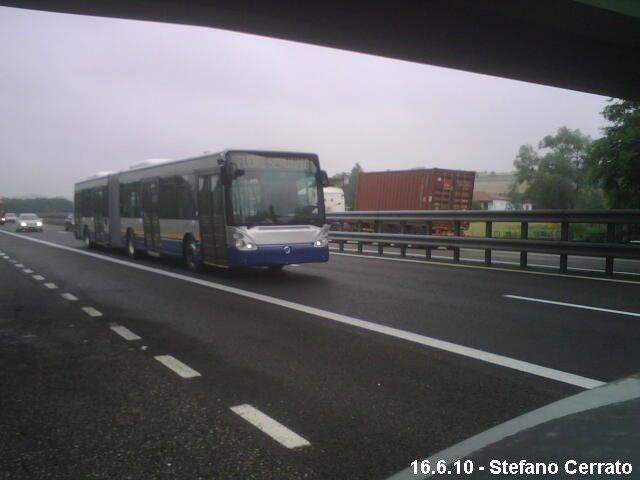car: (14, 209, 45, 236)
